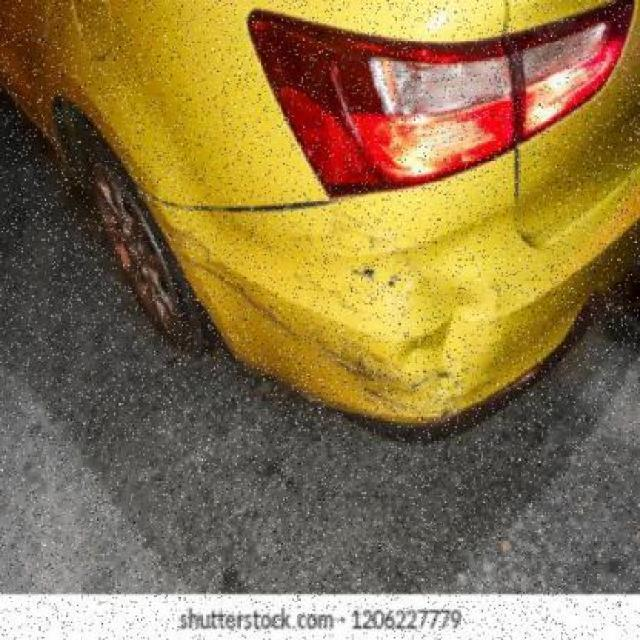rear-bumper-dent: (126, 137, 508, 450)
